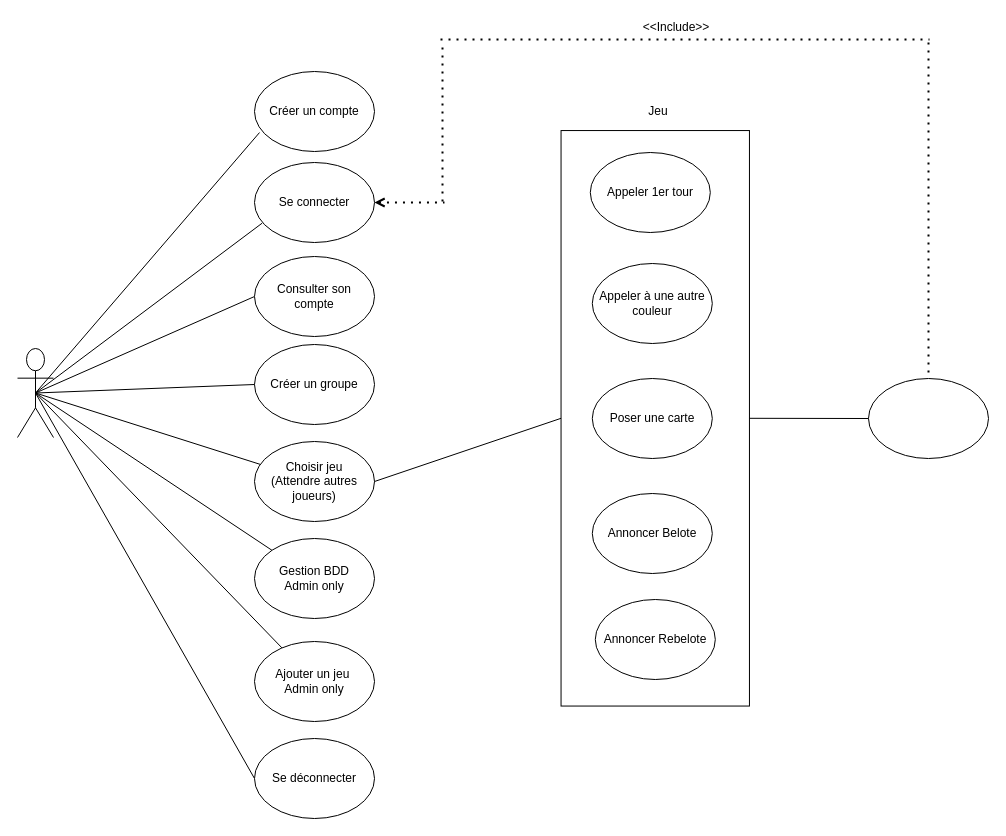
Image size: 1006x836. Some labels were removed from this diagram. Here are the shapes that lost their labels. From the top down, the centre of each, then its label:
pixel 35 393: Actor
pixel 928 418: Sauvegarde de la partie (si joueur connecté)
